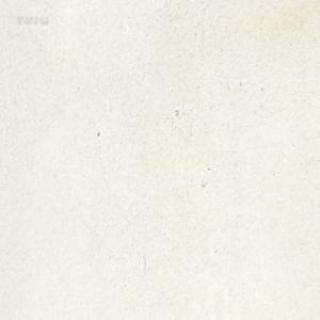Washertrack_idkeyframe: (174, 107, 178, 115)
